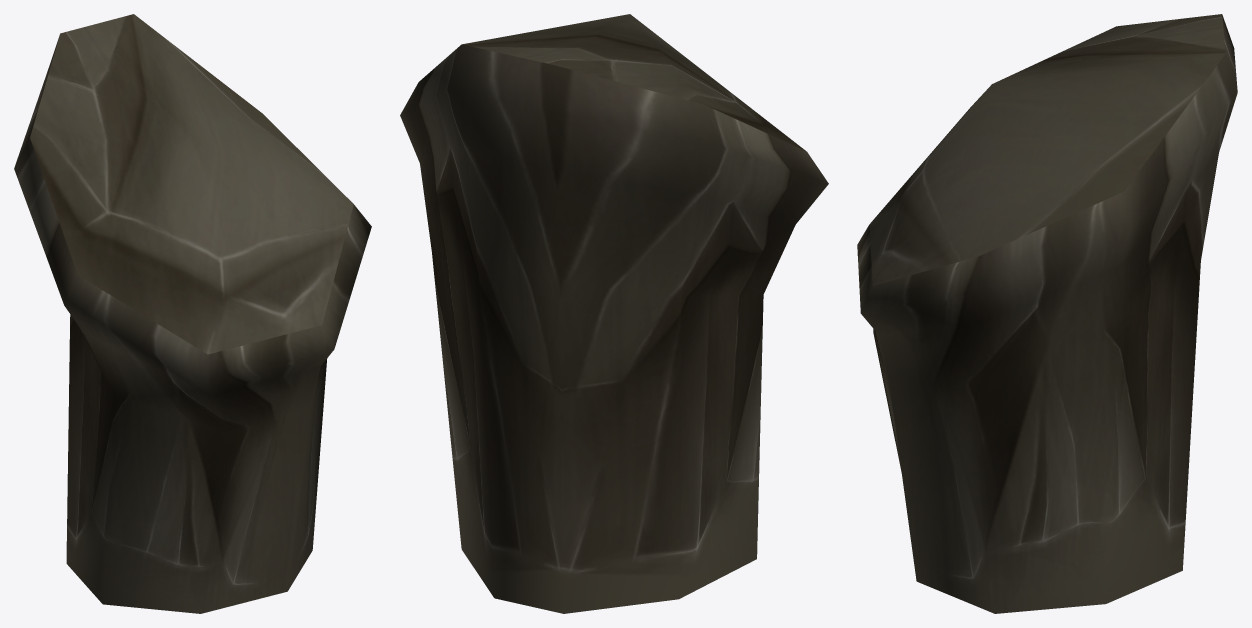
Rendered from A_CV_GEN_RockFormation_01.fbx.
3 renders of one model, left to right at view 1: azimuth 30°, elevation 25°; view 2: azimuth 150°, elevation 25°; view 3: azimuth 270°, elevation 25°, orthographic. The views are drawn at different scales.
Visible parts, largest first — view 1: A_CV_GEN_RockFormation_01; view 2: A_CV_GEN_RockFormation_01; view 3: A_CV_GEN_RockFormation_01.
Boxes of the visible parts, <box> form: A_CV_GEN_RockFormation_01: <box>14,14,371,613</box>; A_CV_GEN_RockFormation_01: <box>400,14,828,613</box>; A_CV_GEN_RockFormation_01: <box>857,14,1237,613</box>.
Bounding box in the file's own units: 676 × 988 × 654.
1 material, 1 textured.
